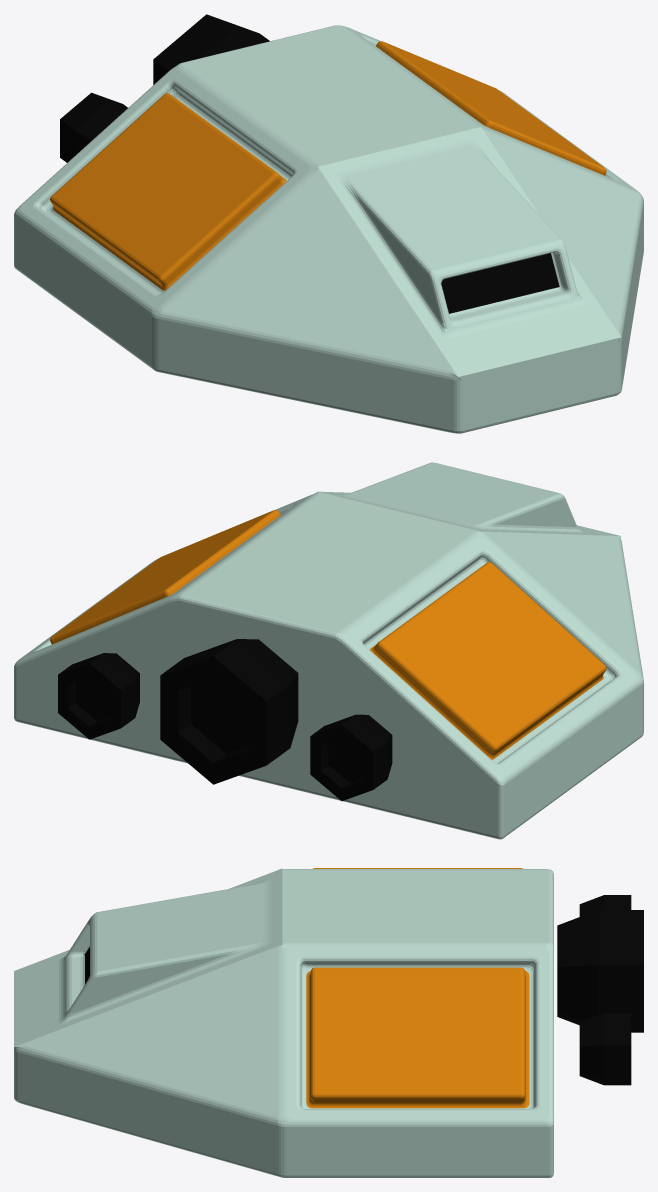
The model's file is astronave.glb.
3 views of the same model, one above another, from view 1: azimuth 30°, elevation 25°; view 2: azimuth 150°, elevation 25°; view 3: azimuth 270°, elevation 25° (orthographic). The views are drawn at different scales.
Visible parts, largest first — view 1: Circle.002_Circle.001; view 2: Circle.002_Circle.001; view 3: Circle.002_Circle.001.
Part boxes in pixels (left/top/right/bottom): Circle.002_Circle.001: left=14, top=14, right=643, bottom=433; Circle.002_Circle.001: left=14, top=462, right=643, bottom=839; Circle.002_Circle.001: left=14, top=868, right=643, bottom=1177.
Bounding box in the file's own units: 2 × 0.6494 × 2.33.
